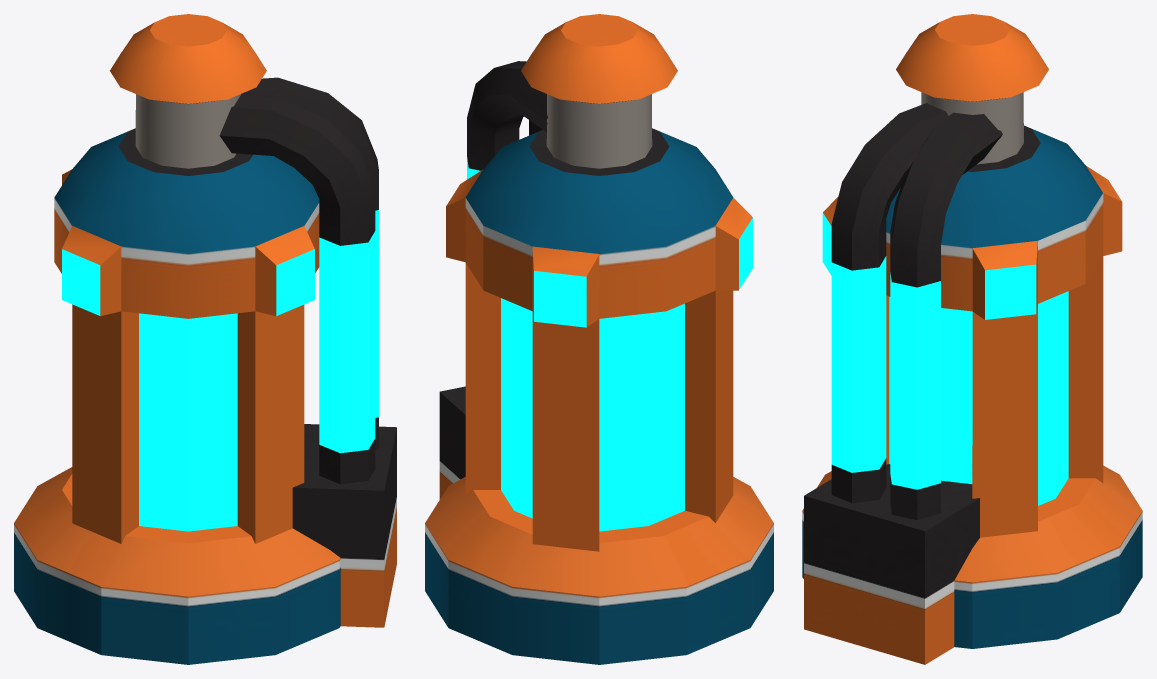
File: ArmazemEnergia.fbx
The picture shows the model from 3 angles, left to right: view 1: azimuth 30°, elevation 25°; view 2: azimuth 150°, elevation 25°; view 3: azimuth 270°, elevation 25°; orthographic projection. The views are drawn at different scales.
Parts seen in each view (by area): view 1: armazemEnergia; view 2: armazemEnergia; view 3: armazemEnergia.
Boxes of the visible parts, x1,y1,x2,y2 form: armazemEnergia: (14,14,396,664); armazemEnergia: (425,14,773,664); armazemEnergia: (802,14,1142,664).
Size of the model in its own units: 61.98 by 99.11 by 55.83.
